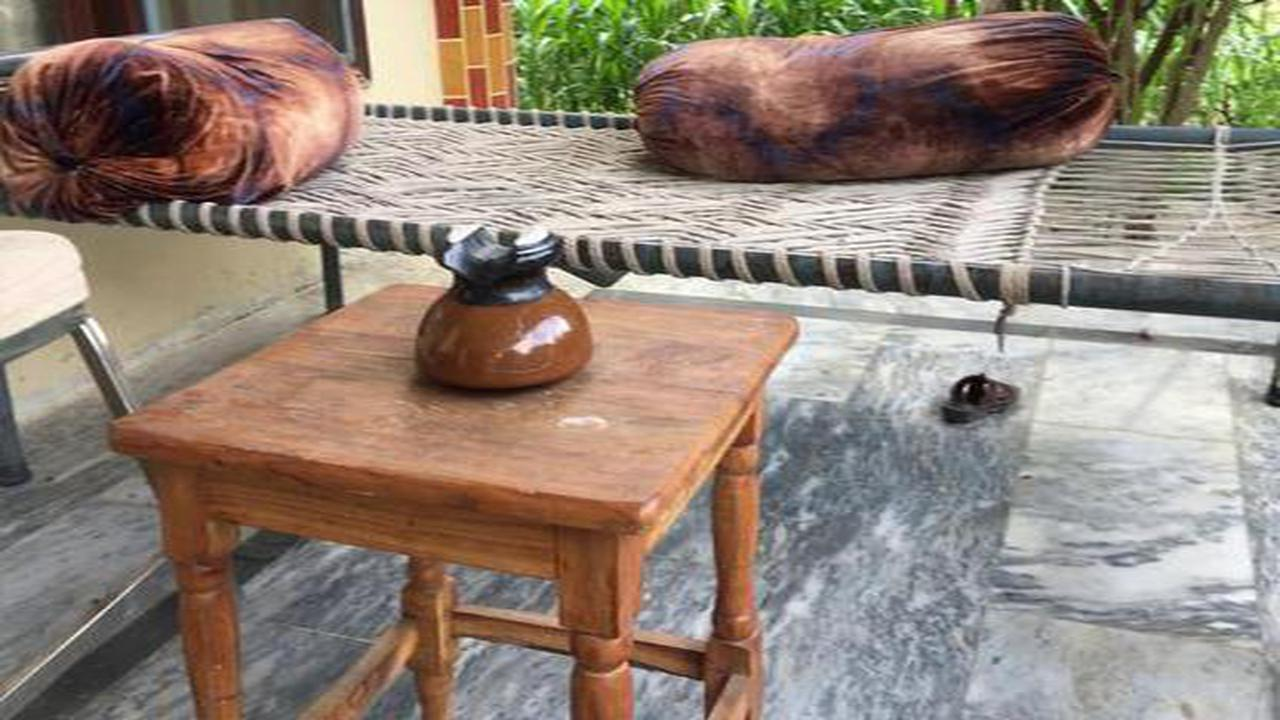insulator_pin: (391, 208, 607, 407)
